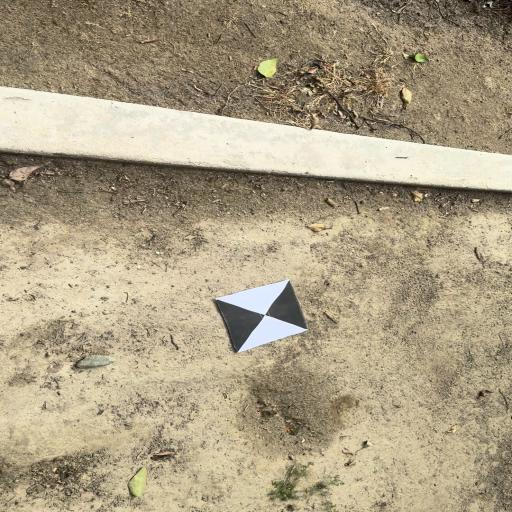target: (216, 279, 308, 353)
